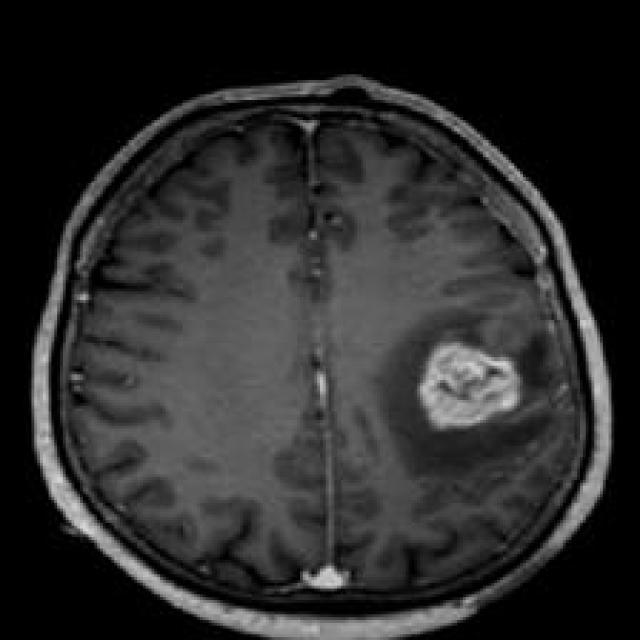glioma_tumor: (375, 298, 571, 505)
